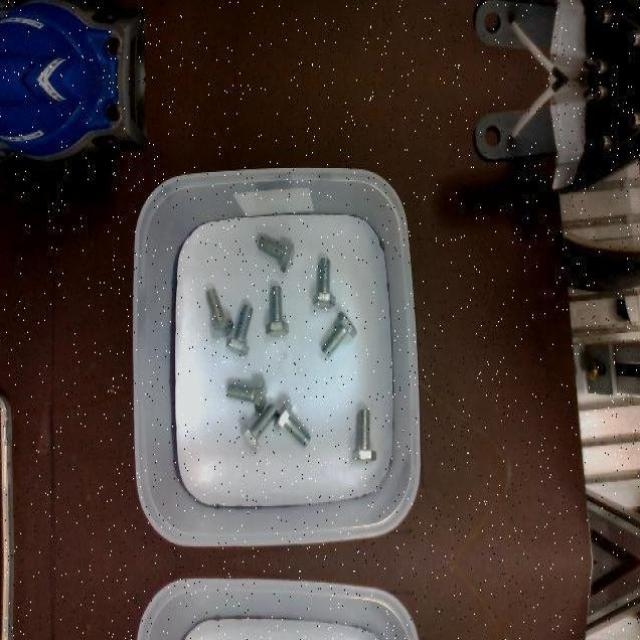screw: (240, 402, 278, 452), (274, 402, 311, 448), (322, 310, 358, 357), (226, 303, 253, 355), (207, 288, 234, 338), (227, 380, 268, 412), (353, 408, 378, 459), (258, 237, 294, 271), (313, 256, 336, 308), (266, 284, 288, 336)
